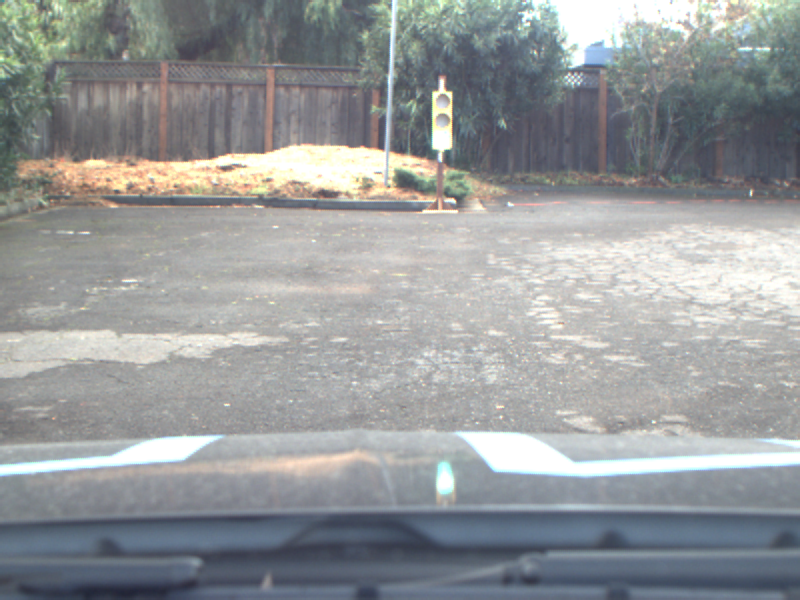Green: (432, 90, 453, 151)
